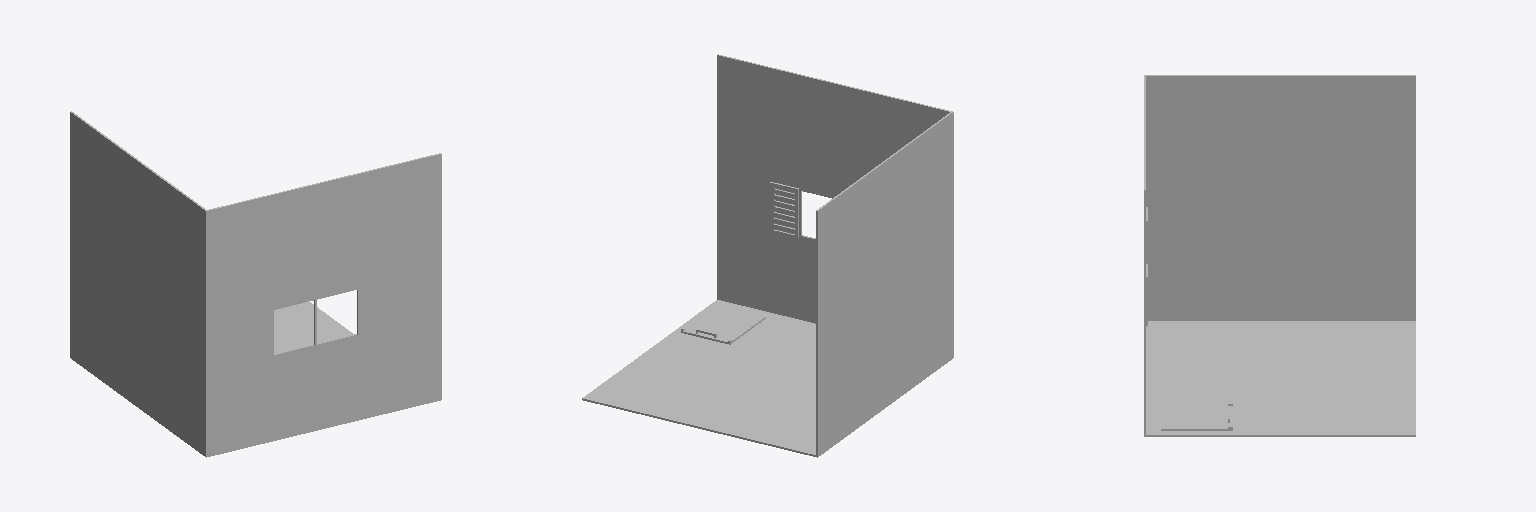
Rendered from Estrutura base melhorada com o dobro-1.obj.
3 renders of one model, left to right at view 1: azimuth 30°, elevation 25°; view 2: azimuth 150°, elevation 25°; view 3: azimuth 270°, elevation 25°, orthographic.
Visible parts, largest first — view 1: object 1; view 2: object 1; view 3: object 1.
Part boxes in pixels (left/top/right/bottom): object 1: left=70, top=111, right=441, bottom=457; object 1: left=582, top=54, right=953, bottom=457; object 1: left=1144, top=75, right=1415, bottom=436.
Bounding box in the file's own units: 12.6 × 12.6 × 12.6.